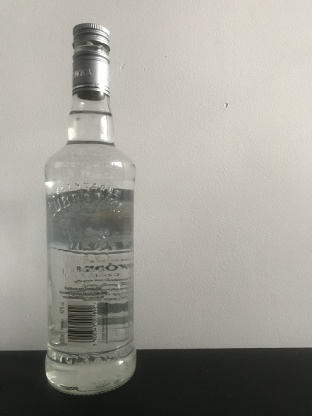nakretka: (71, 20, 111, 100)
